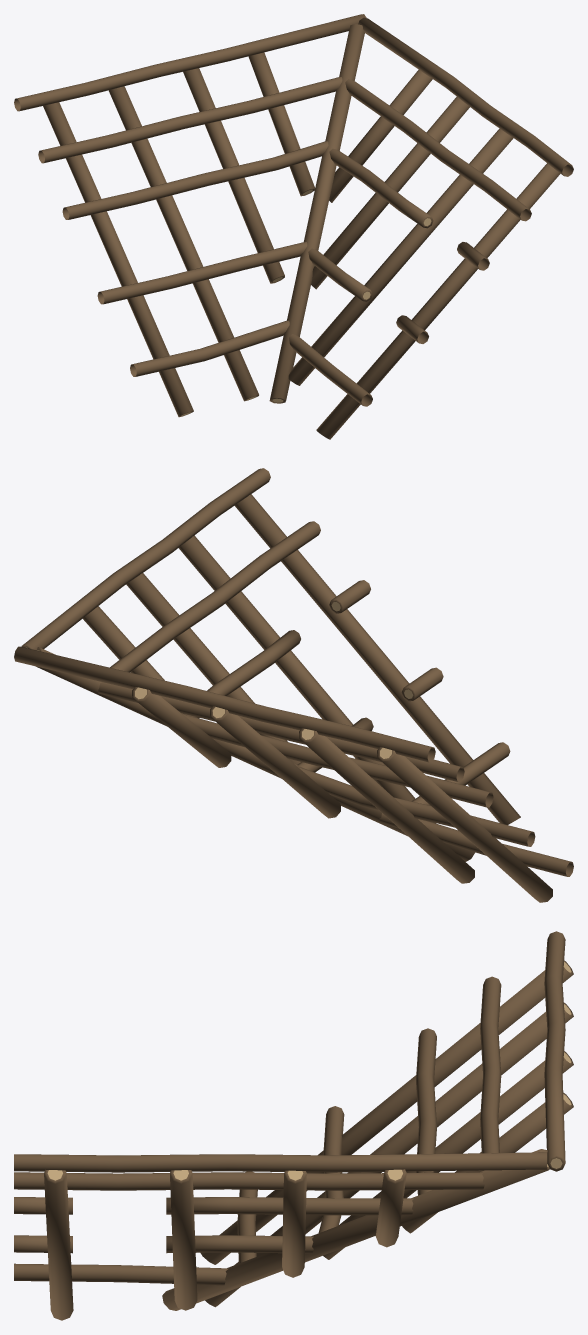
File: rpgpp_ag_roof_support_01_9x4x3_corner_a_chimney_01.fbx
The picture shows the model from 3 angles, top to bottom: view 1: azimuth 30°, elevation 25°; view 2: azimuth 150°, elevation 25°; view 3: azimuth 270°, elevation 25°; orthographic projection. The views are drawn at different scales.
Parts seen in each view (by area): view 1: rpgpp_ag_roof_support_01_9x4x3_corner_a_chimney_01; view 2: rpgpp_ag_roof_support_01_9x4x3_corner_a_chimney_01; view 3: rpgpp_ag_roof_support_01_9x4x3_corner_a_chimney_01.
Part boxes in pixels (box(x1,y1,x2,y2)): rpgpp_ag_roof_support_01_9x4x3_corner_a_chimney_01: box(14, 14, 573, 439); rpgpp_ag_roof_support_01_9x4x3_corner_a_chimney_01: box(14, 468, 573, 902); rpgpp_ag_roof_support_01_9x4x3_corner_a_chimney_01: box(14, 931, 573, 1320).
Bounding box in the file's own units: 7.66 × 4.77 × 7.85.
